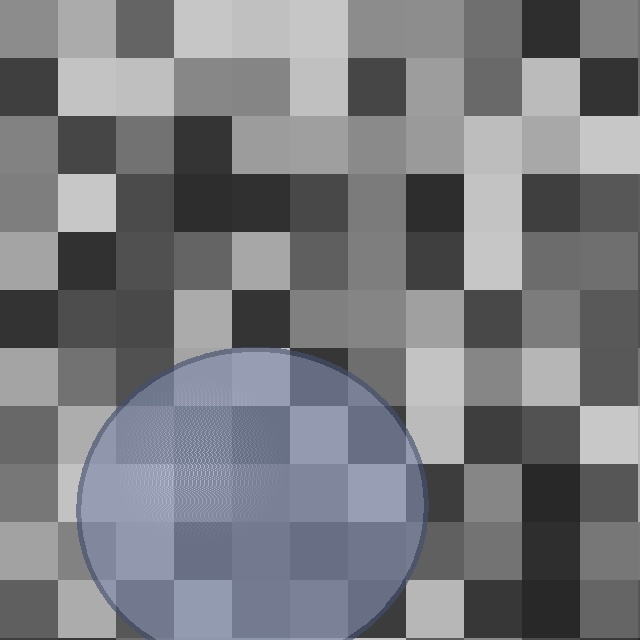lens: (79, 350, 425, 640)
